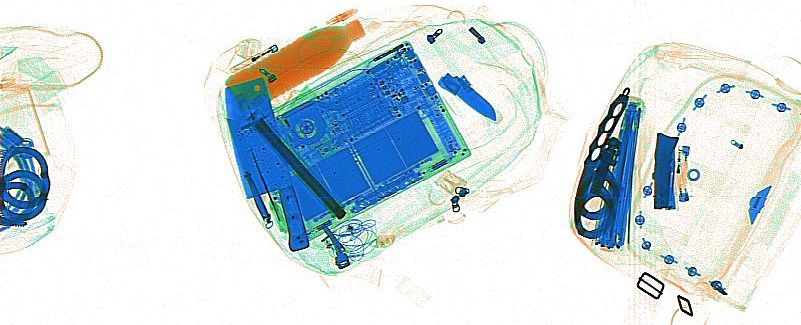handcuffs: (573, 135, 622, 238), (1, 145, 50, 227)
knife: (222, 75, 309, 253), (574, 86, 630, 221), (437, 68, 499, 123), (248, 145, 286, 231), (651, 131, 681, 210), (239, 169, 271, 227)
lighter: (227, 43, 279, 74), (672, 149, 689, 203), (675, 142, 689, 190)
